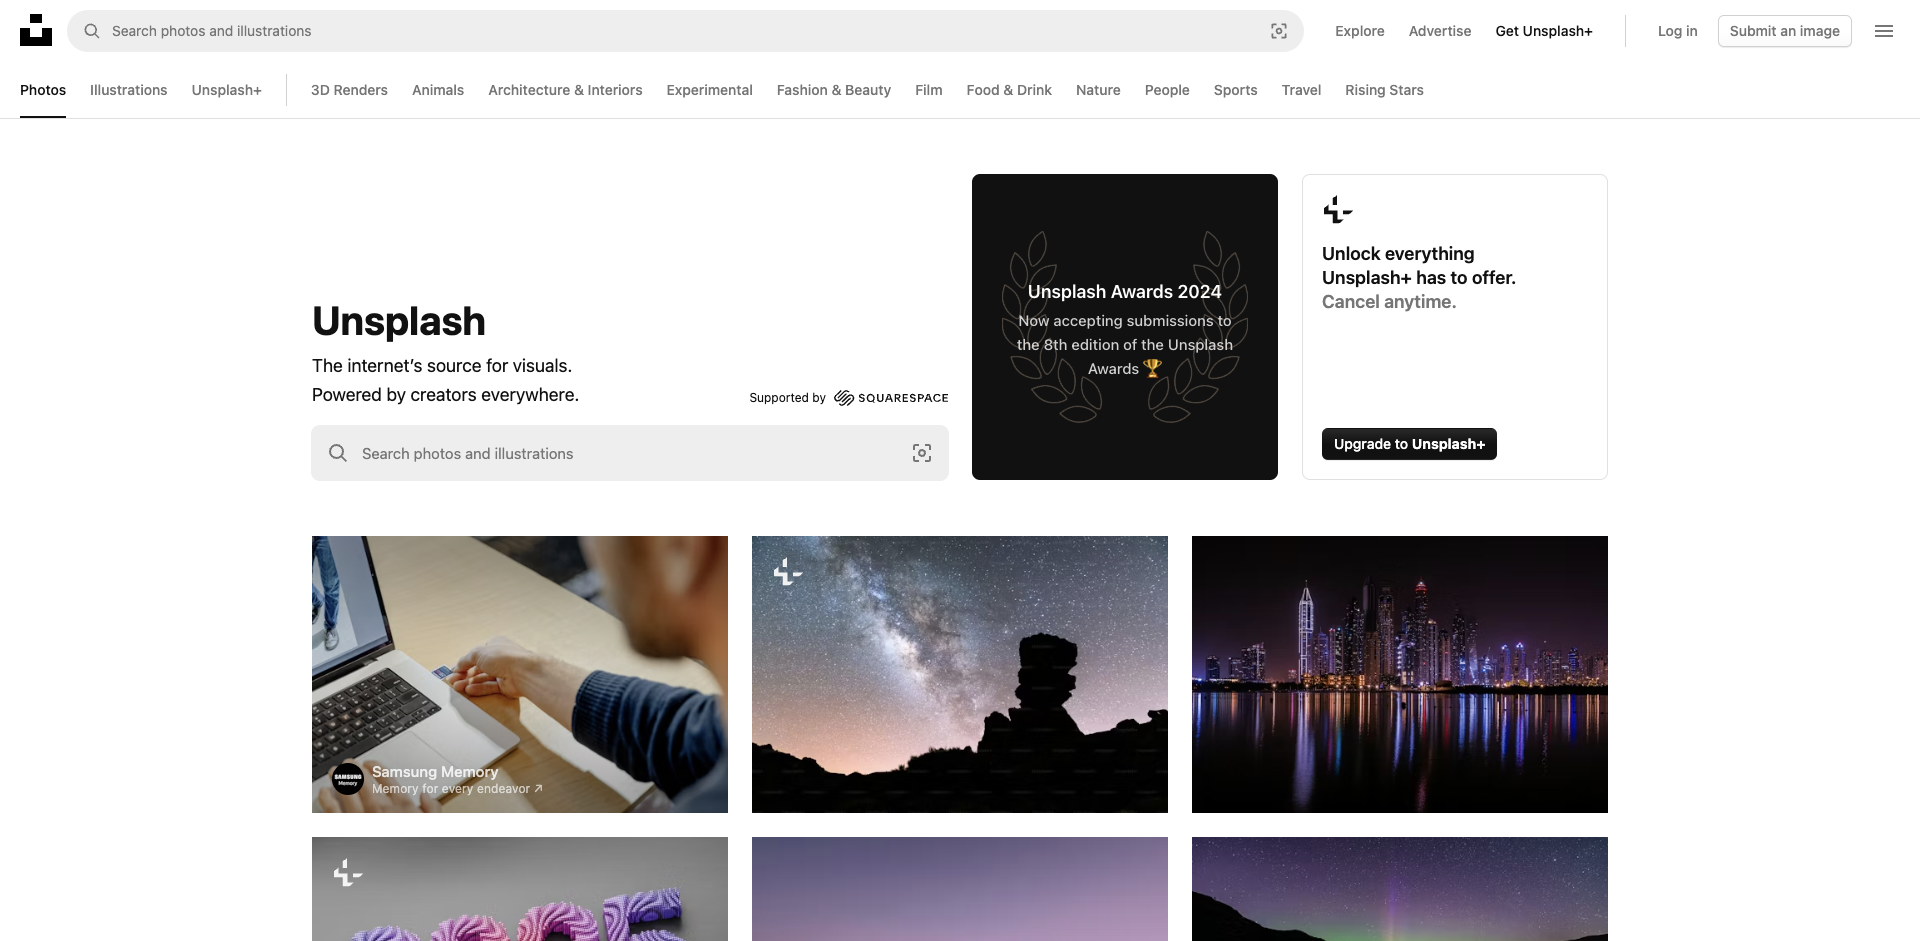button: (1718, 15, 1851, 47), (1041, 761, 1149, 793), (896, 426, 948, 480), (312, 426, 350, 480), (1255, 11, 1303, 51), (69, 11, 102, 51), (1869, 11, 1900, 51), (620, 556, 660, 588), (620, 858, 660, 890), (1108, 556, 1149, 588), (1108, 858, 1149, 890), (1500, 556, 1540, 588), (1548, 556, 1588, 588), (1500, 858, 1540, 890), (1548, 858, 1588, 890), (669, 556, 708, 588), (669, 858, 708, 890), (1060, 556, 1100, 588), (1060, 858, 1100, 890)
dropdown: (102, 11, 1255, 51), (350, 426, 896, 480)
input: (102, 11, 1255, 51), (350, 426, 896, 480)
link: (312, 535, 729, 814), (752, 535, 1168, 814), (1191, 535, 1608, 814), (972, 174, 1278, 480), (1302, 174, 1608, 480), (312, 837, 729, 941), (752, 837, 1168, 941), (1191, 837, 1608, 941), (489, 62, 643, 118), (776, 62, 891, 118), (749, 386, 948, 410), (666, 62, 753, 118), (966, 62, 1052, 118), (1346, 62, 1424, 118), (91, 62, 168, 118), (311, 62, 388, 118), (1495, 11, 1593, 51), (191, 62, 262, 118), (372, 761, 544, 782), (411, 62, 464, 118), (20, 62, 66, 118), (1409, 11, 1472, 51), (372, 782, 544, 796), (1145, 62, 1190, 118), (1076, 62, 1120, 118), (1213, 62, 1258, 118), (1251, 761, 1365, 782), (1282, 62, 1321, 118), (1646, 15, 1709, 47), (1336, 11, 1385, 51), (1251, 782, 1365, 798), (812, 761, 896, 782), (915, 62, 943, 118), (669, 761, 708, 794), (20, 11, 51, 51), (1548, 761, 1588, 793), (771, 556, 804, 588), (771, 763, 804, 795), (332, 763, 364, 795), (332, 858, 364, 890), (1212, 763, 1244, 795), (332, 556, 389, 572), (834, 782, 895, 796)
